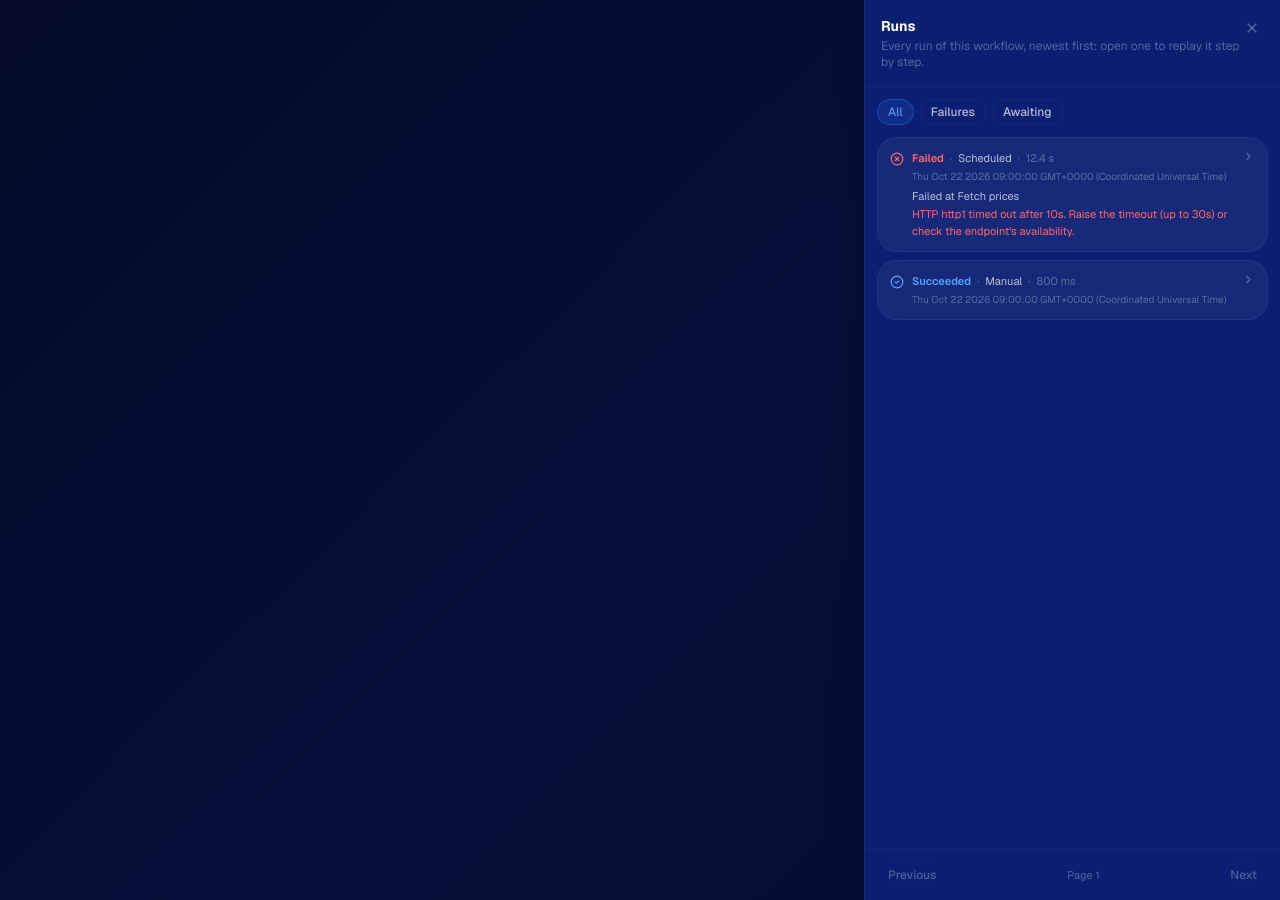
Test case: RunsDrawer › says when nothing failed
Expected: the list item with test id "run-row-r2" is shown, x1=877 y1=137 x2=1268 y2=252
Click the tab "Failures". click: (953,112)
box: x1=920 y1=99 x2=986 y2=125
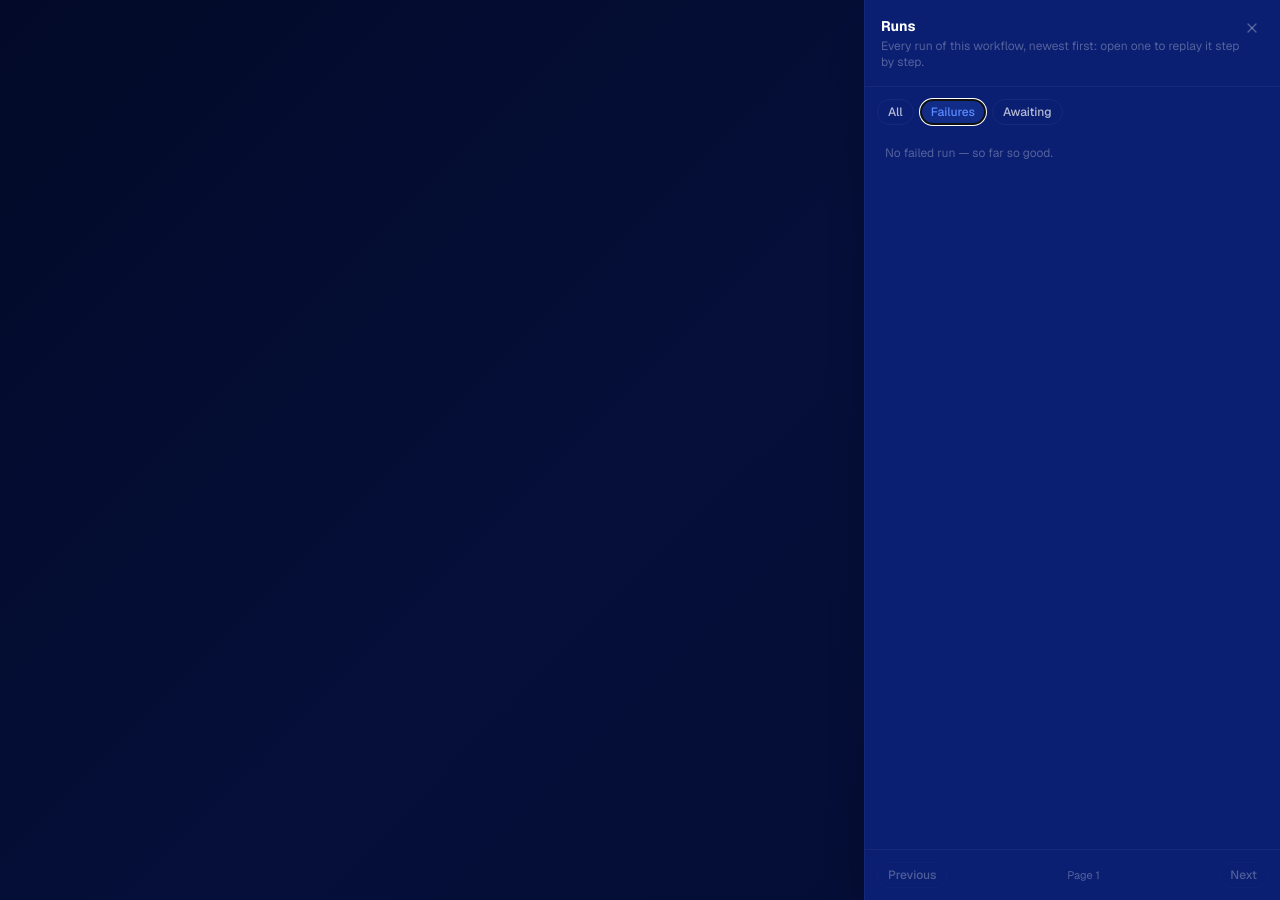
Now the text "No failed run — so far so good." is shown, box x1=885 y1=145 x2=1053 y2=161
